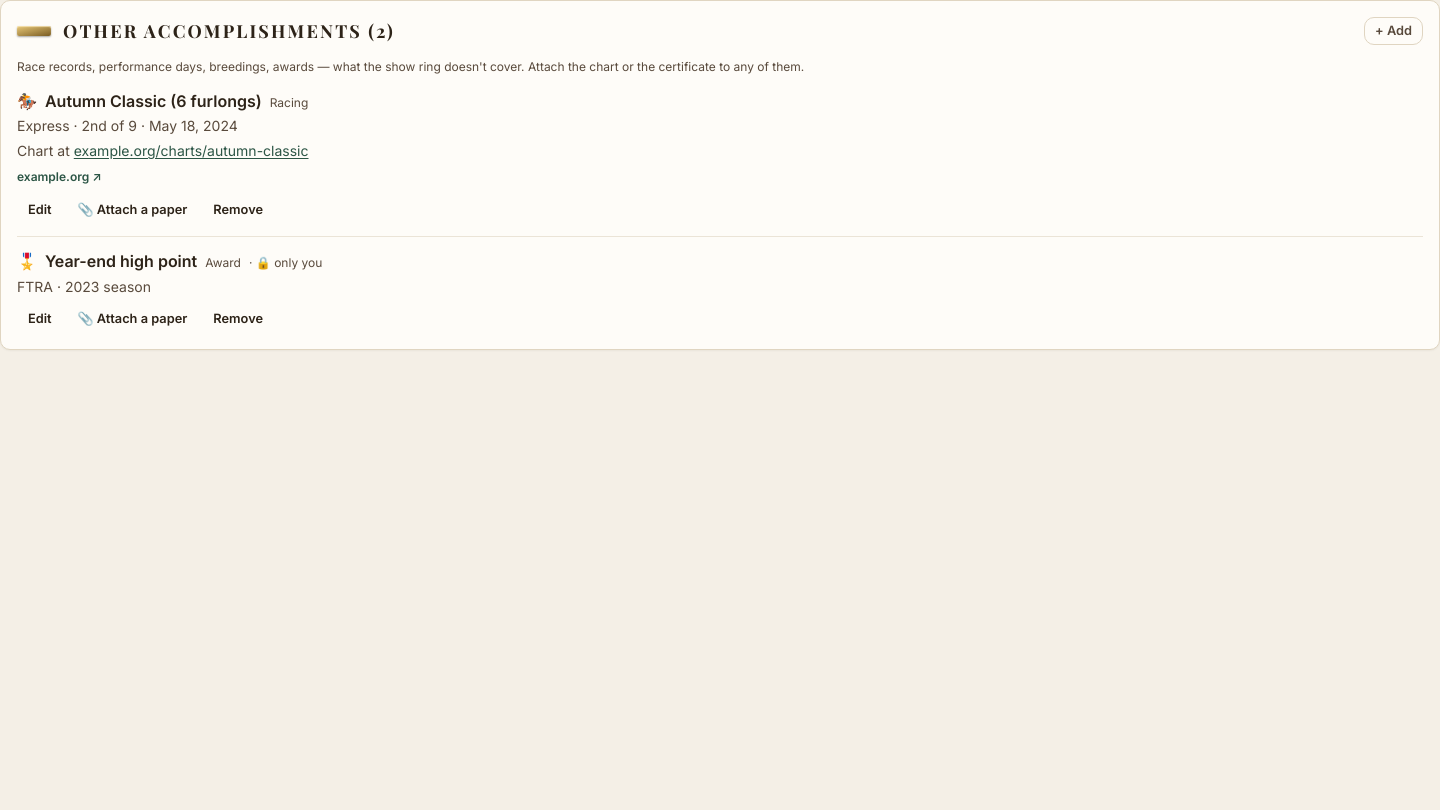
Test case: AccomplishmentsSection › owner: attach opens the paper dialog aimed at that row
The width and height of the screenshot is (1440, 810).
Expected: the text "· 🔒 only you" is shown, [249,255,322,271]
Click the button "📎 Attach a paper" below "Autumn Classic (6 furlongs)".
click(132, 210)  # box [67,196,198,224]
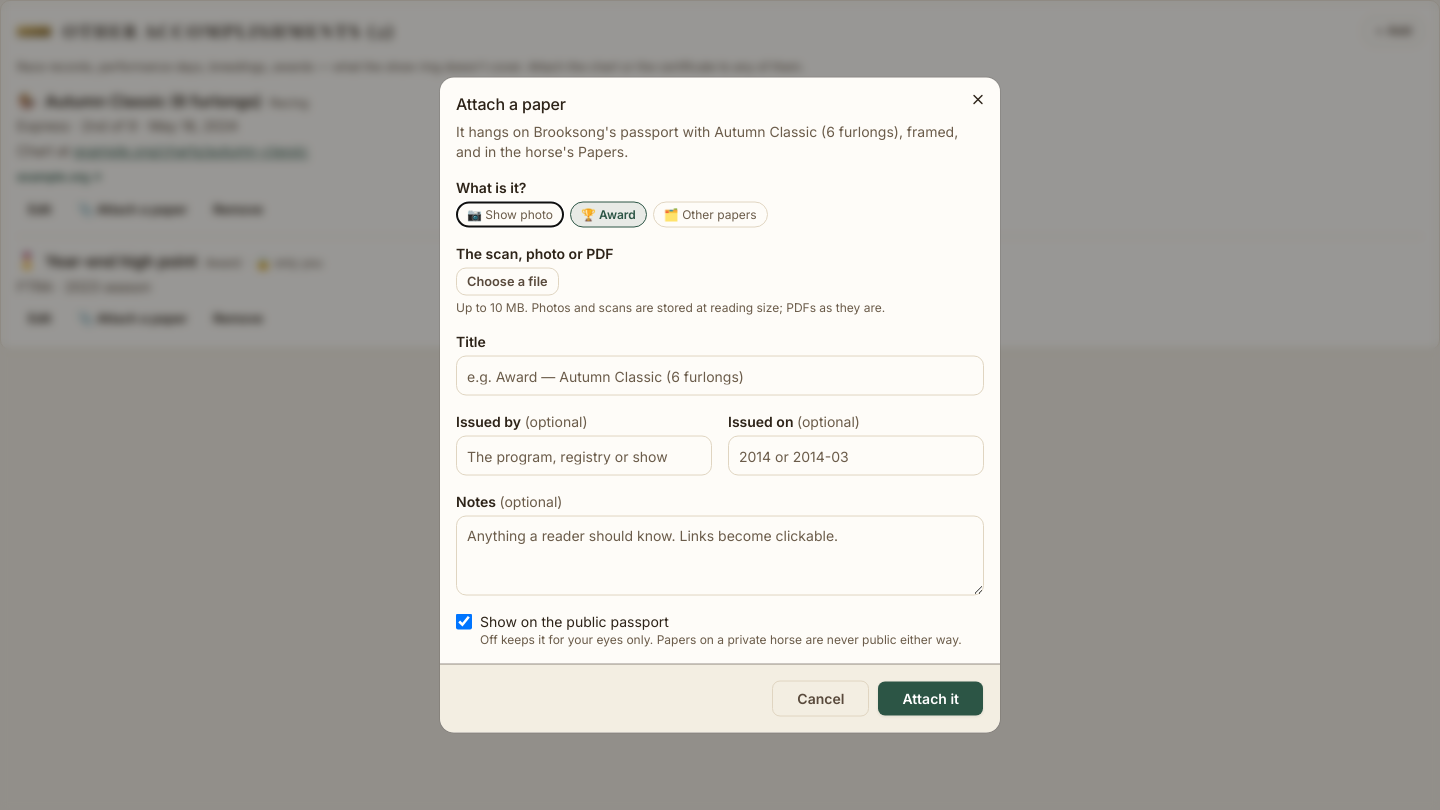
Expected: the heading "Attach a paper" is shown, [456,94,566,114]
Expected: the text "passport with Autumn Classic (6 furlongs)" is shown, [456,122,958,160]
Expected: the button "Attach it" is shown, [877,680,984,716]
